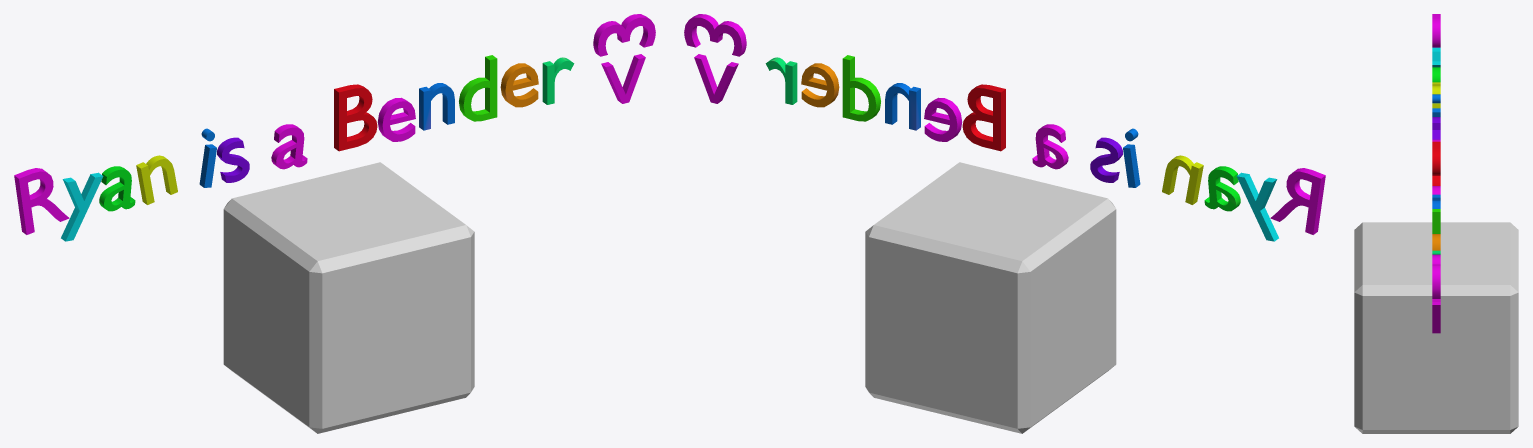
Rendered from Item.glb.
3 renders of one model, left to right at view 1: azimuth 30°, elevation 25°; view 2: azimuth 150°, elevation 25°; view 3: azimuth 270°, elevation 25°, orthographic. The views are drawn at different scales.
Visible parts, largest first — view 1: Cube, Text; view 2: Cube, Text; view 3: Cube, Text.
Part boxes in pixels (box(x1,y1,x2,y2)): Cube: box(223, 162, 474, 433); Text: box(14, 14, 655, 241); Cube: box(865, 162, 1116, 433); Text: box(684, 14, 1325, 241); Cube: box(1354, 222, 1518, 433); Text: box(1432, 14, 1440, 333).
Size of the model in its own units: 7.72 by 3.45 by 2.
